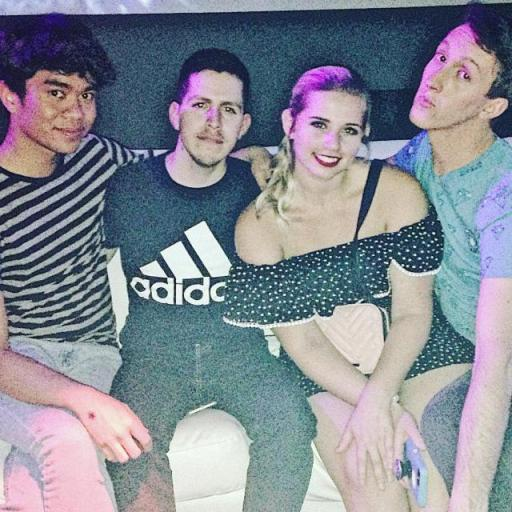Adidas: (127, 218, 233, 304)
